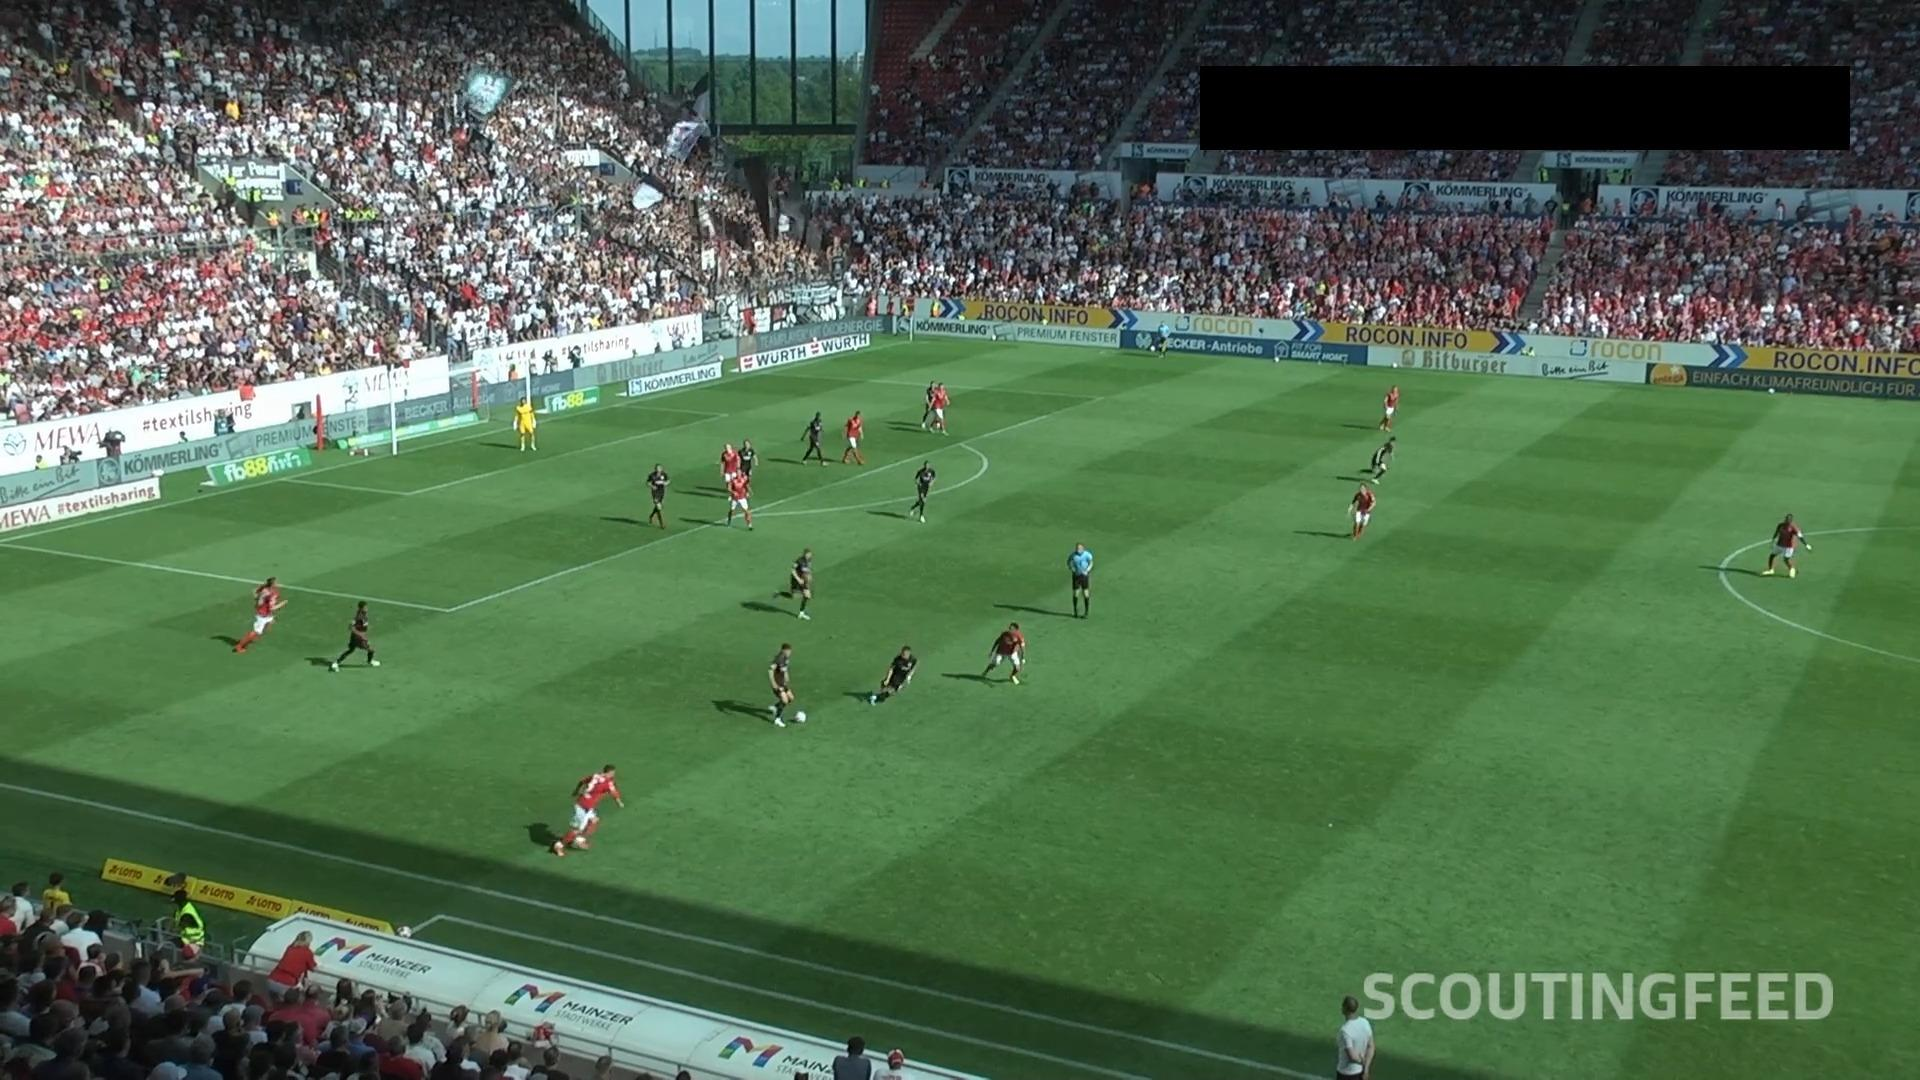ball: (794, 711, 807, 724)
